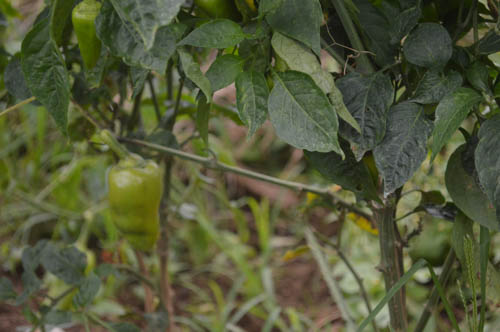ChiliPepper: (106, 163, 163, 253), (69, 9, 105, 69)
